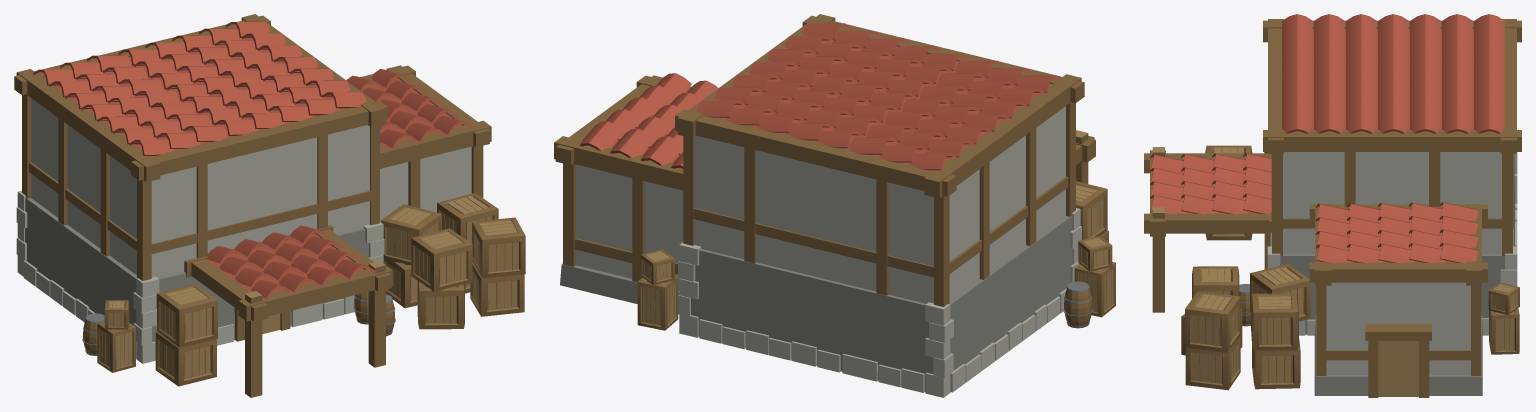
The model's file is business-building-animated.glb.
3 renders of one model, left to right at view 1: azimuth 30°, elevation 25°; view 2: azimuth 150°, elevation 25°; view 3: azimuth 270°, elevation 25°, orthographic. The views are drawn at different scales.
Visible parts, largest first — view 1: BusinessShell; view 2: BusinessShell; view 3: BusinessShell.
Part boxes in pixels (left/top/right/bottom): BusinessShell: left=14, top=14, right=525, bottom=397; BusinessShell: left=554, top=14, right=1115, bottom=397; BusinessShell: left=1144, top=14, right=1521, bottom=397.
Bounding box in the file's own units: 5.84 × 2.9 × 4.63.
